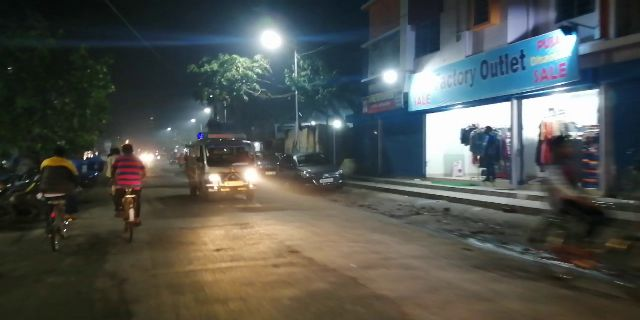Car: (274, 147, 346, 195)
Cycle: (35, 144, 75, 261), (110, 139, 152, 246)
Minitruck: (188, 129, 268, 202)
